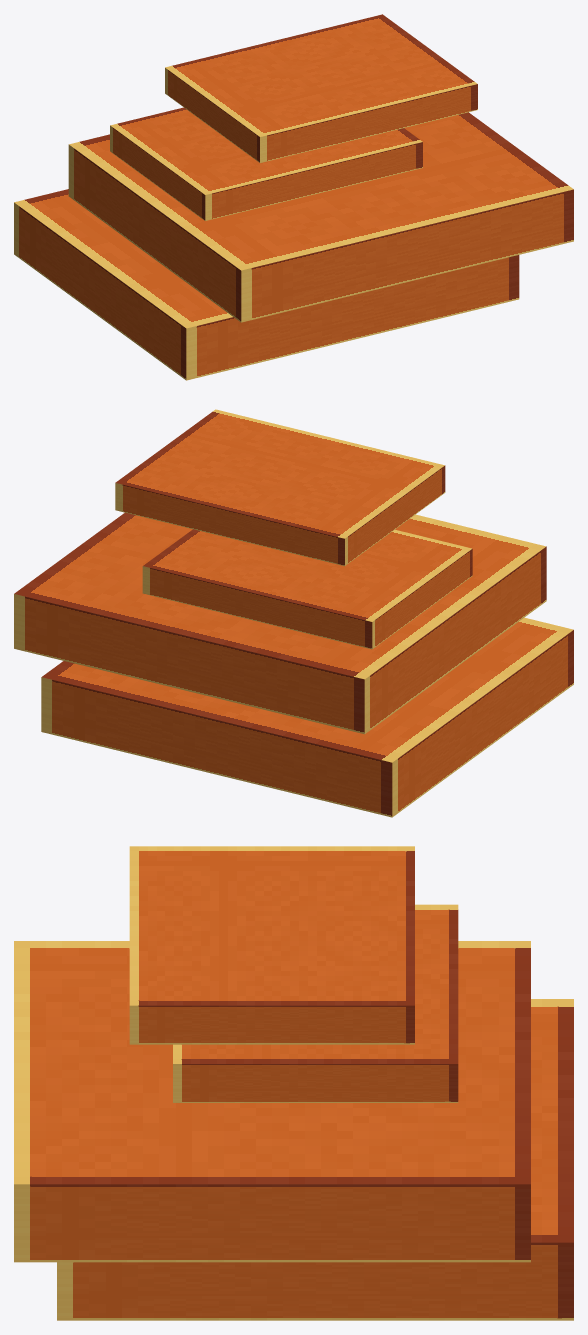
File: bench_boots_0_hot.obj
3 renders of one model, top to bottom at view 1: azimuth 30°, elevation 25°; view 2: azimuth 150°, elevation 25°; view 3: azimuth 270°, elevation 25°, orthographic. The views are drawn at different scales.
Parts seen in each view (by area): view 1: geometry; view 2: geometry; view 3: geometry.
Part boxes in pixels (x1,y1,x2,y2): geometry: (14, 14, 573, 380); geometry: (14, 409, 573, 817); geometry: (14, 846, 573, 1320).
Bounding box in the file's own units: 0.4839 × 0.25 × 0.4194.
